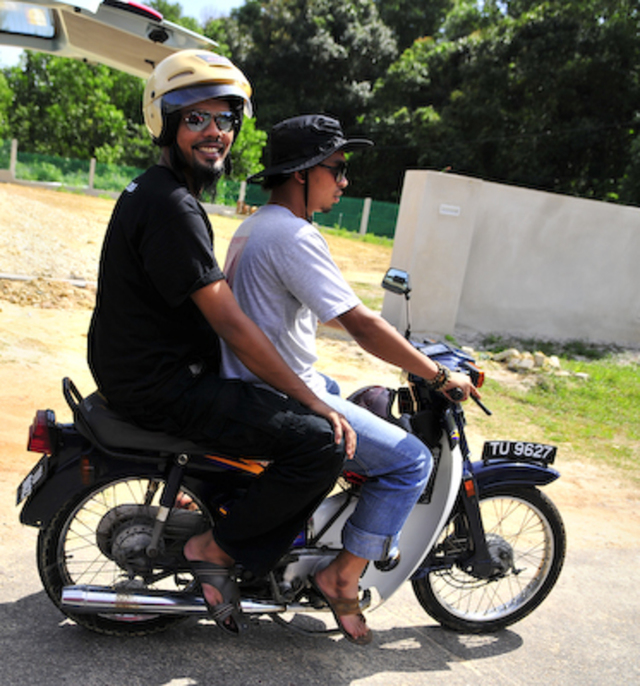helmet: (136, 49, 255, 119)
